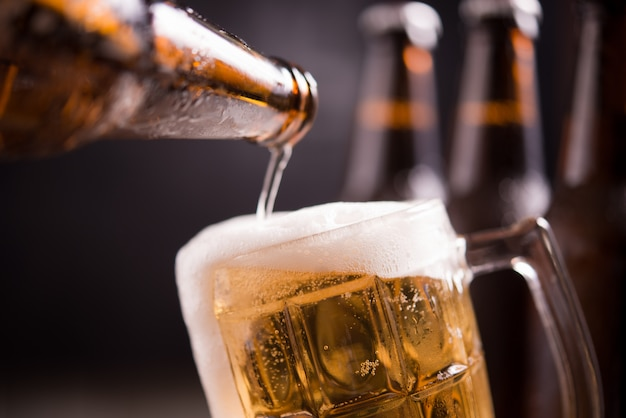alcohol: (175, 202, 604, 418), (2, 0, 321, 170), (456, 3, 550, 418), (561, 6, 626, 418), (344, 0, 450, 203)
